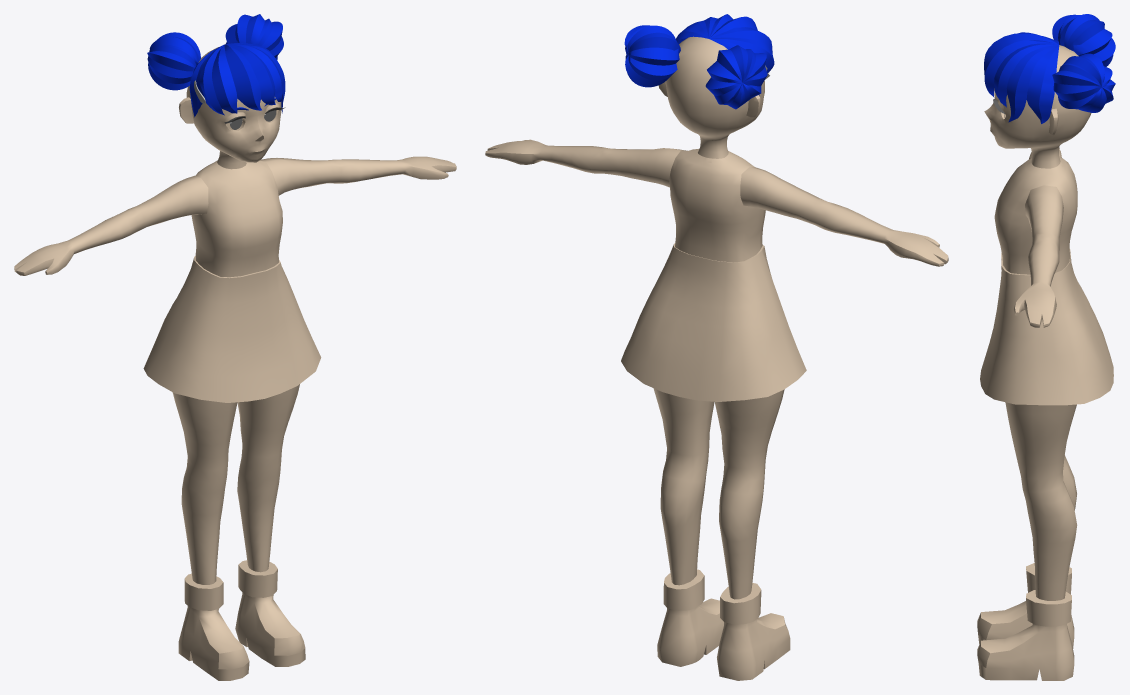
File: Kami Base con UVS.fbx
The picture shows the model from 3 angles, left to right: view 1: azimuth 30°, elevation 25°; view 2: azimuth 150°, elevation 25°; view 3: azimuth 270°, elevation 25°; orthographic projection. The views are drawn at different scales.
Visible parts, largest first — view 1: Kami; view 2: Kami; view 3: Kami.
Part boxes in pixels (box(x1,y1,x2,y2)): Kami: box(14, 14, 456, 680); Kami: box(485, 14, 948, 680); Kami: box(977, 14, 1115, 680).
Bounding box in the file's own units: 6.66 × 8.84 × 1.78.
